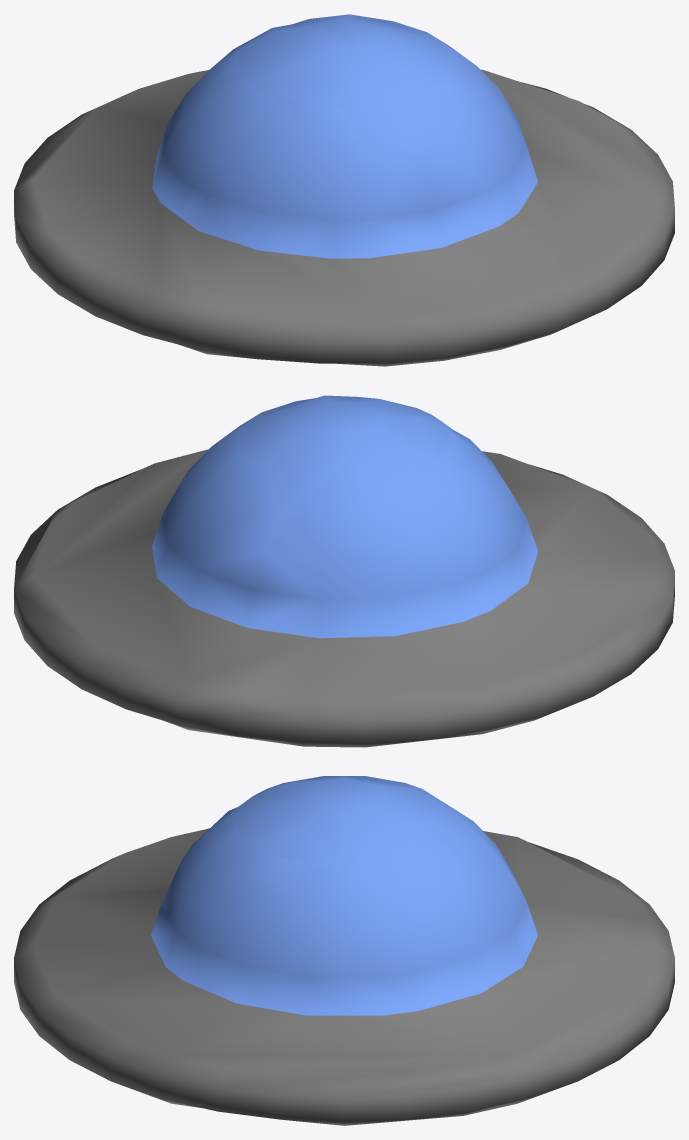
Rendered from ufo.fbx.
The picture shows the model from 3 angles, top to bottom: view 1: azimuth 30°, elevation 25°; view 2: azimuth 150°, elevation 25°; view 3: azimuth 270°, elevation 25°; orthographic projection.
Parts seen in each view (by area): view 1: UFO; view 2: UFO; view 3: UFO.
Boxes of the visible parts, x1,y1,x2,y2 form: UFO: [14, 14, 674, 366]; UFO: [14, 395, 674, 747]; UFO: [14, 776, 674, 1125].
Bounding box in the file's own units: 1340 × 553 × 1339.
